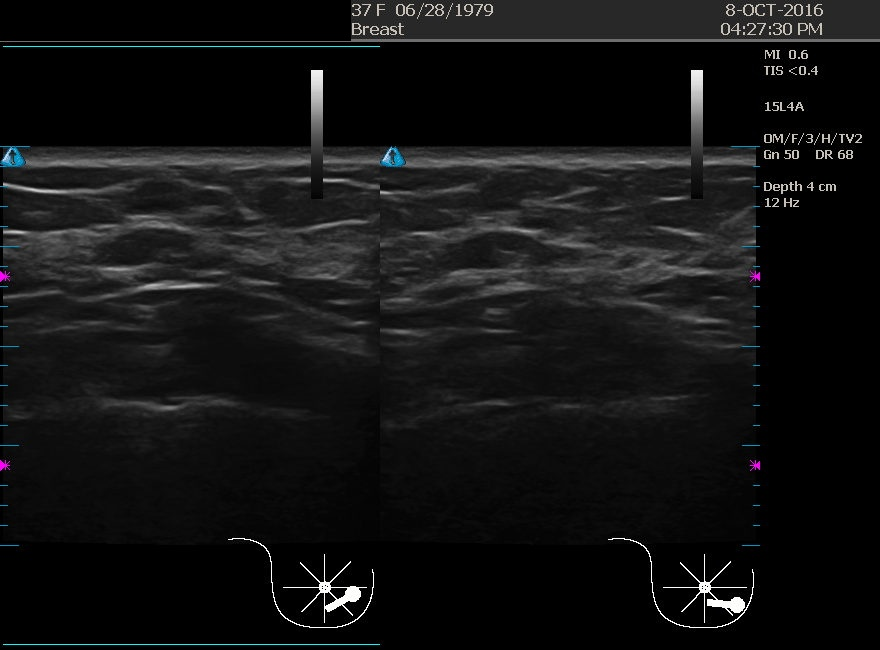BIRADS_2: (47, 160, 247, 360)
BIRADS_3: (418, 217, 618, 417)
